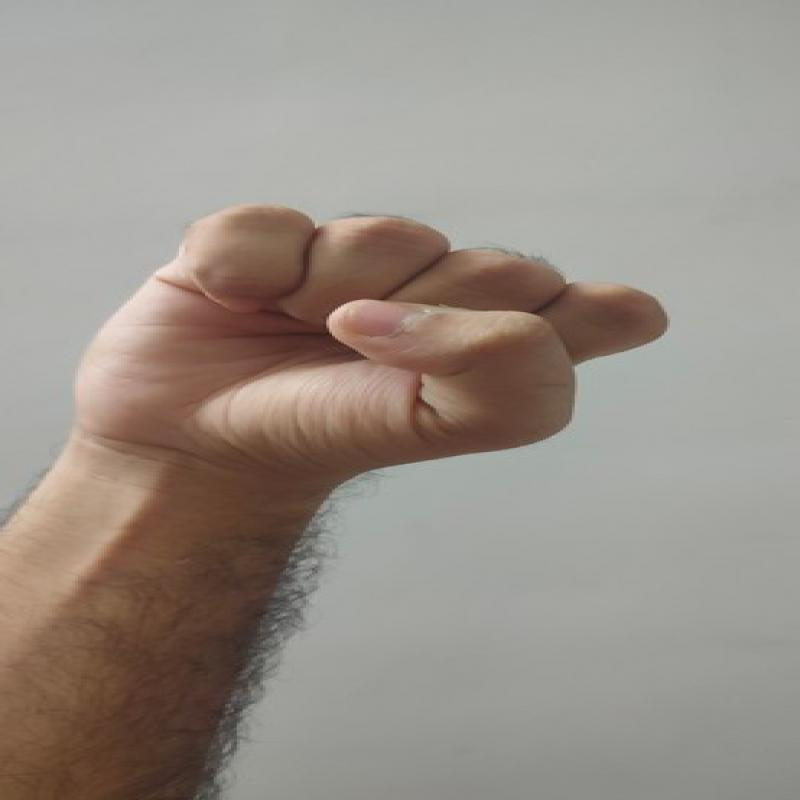Mushti: (72, 190, 685, 489)
